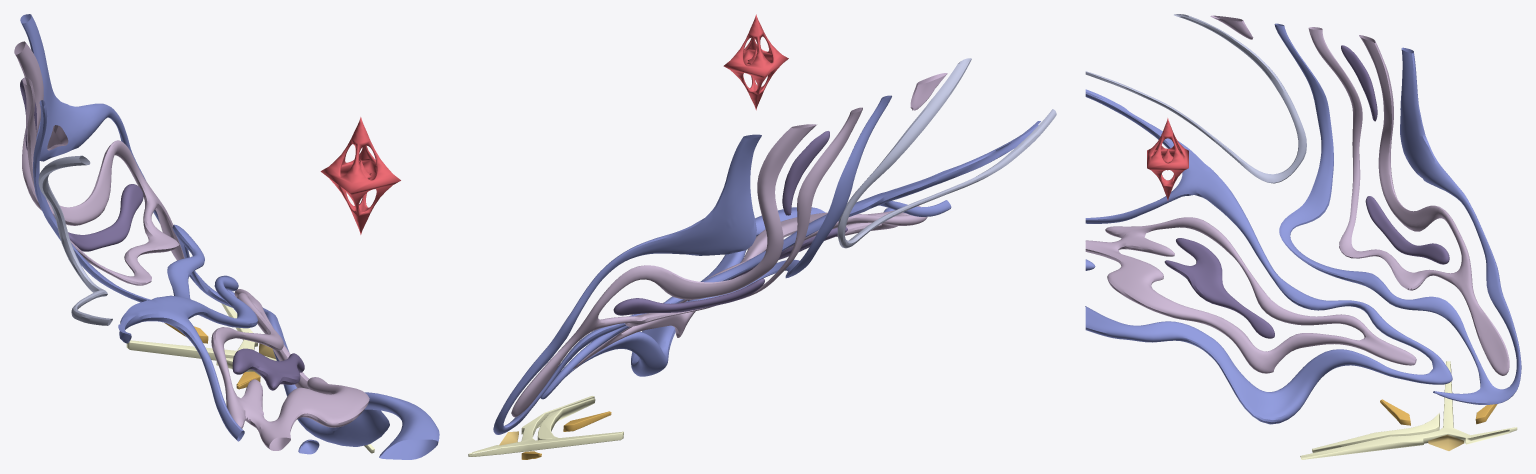
File: SM_Butterfly_Front_RB_4.fbx
3 views of the same model, side by side, from view 1: azimuth 30°, elevation 25°; view 2: azimuth 150°, elevation 25°; view 3: azimuth 270°, elevation 25° (orthographic). The views are drawn at different scales.
Parts seen in each view (by area): view 1: 4; view 2: 4; view 3: 4.
Boxes of the visible parts, <box> form: 4: <box>14,14,439,459</box>; 4: <box>468,14,1056,459</box>; 4: <box>1085,14,1521,459</box>.
Bounding box in the file's own units: 143 × 145 × 182.
